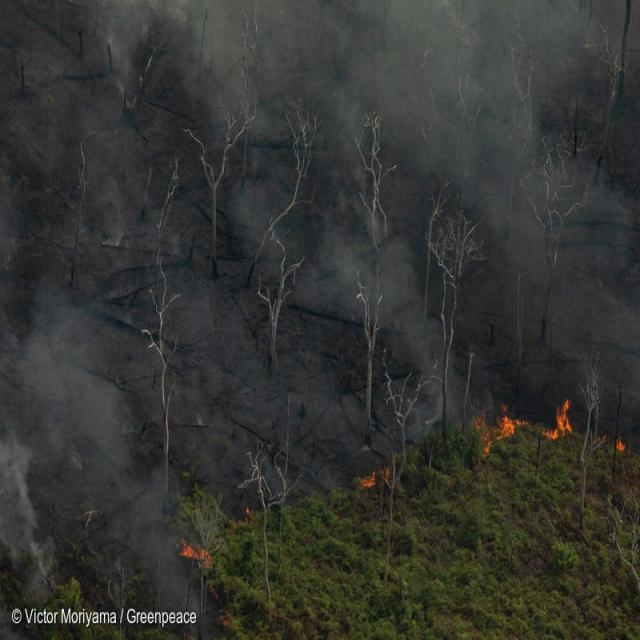Fire: (472, 402, 528, 455), (541, 396, 572, 441), (178, 536, 210, 564), (358, 469, 376, 488), (615, 434, 627, 452)
Smoke: (1, 1, 640, 640)
